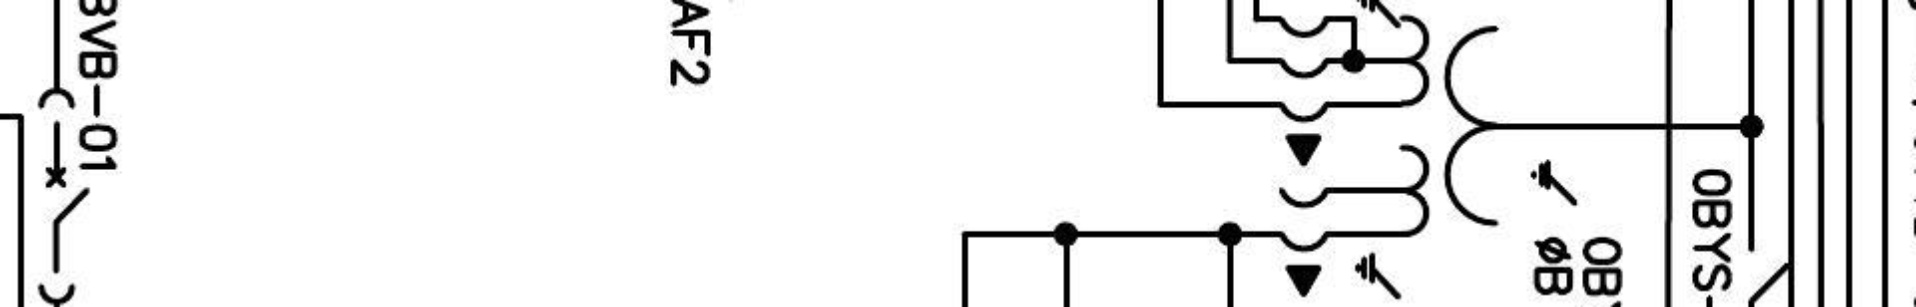115_ds: (1747, 243, 1788, 303)
22_breaker: (37, 87, 92, 306)
